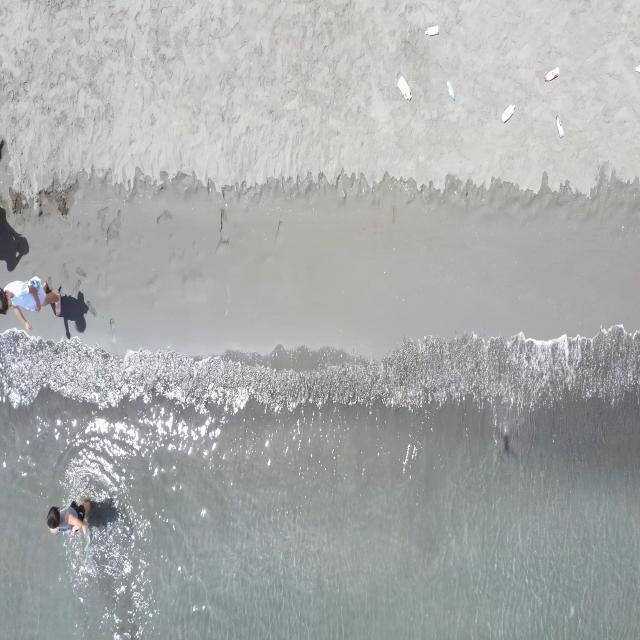Garbage: (396, 75, 411, 99), (500, 103, 515, 121), (544, 67, 559, 80), (555, 115, 563, 136), (424, 24, 436, 35), (448, 80, 454, 100), (635, 64, 639, 71)
